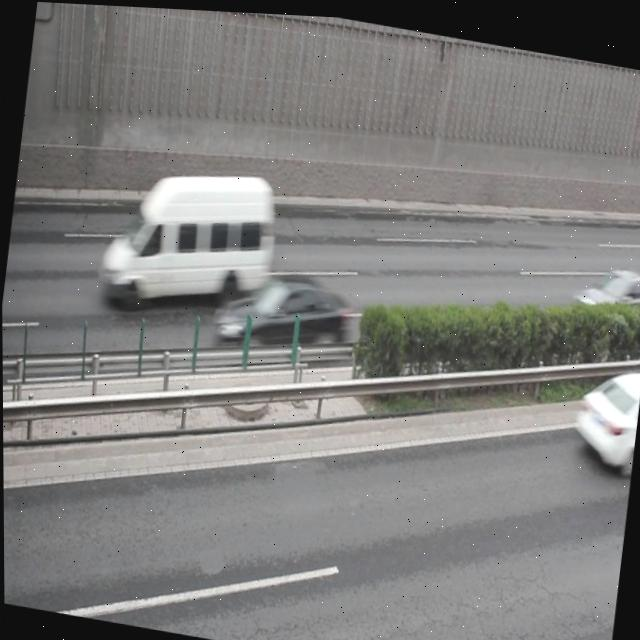car: (214, 260, 355, 359), (567, 356, 640, 465), (137, 197, 233, 277), (568, 253, 640, 321)
truck: (97, 149, 281, 321)
